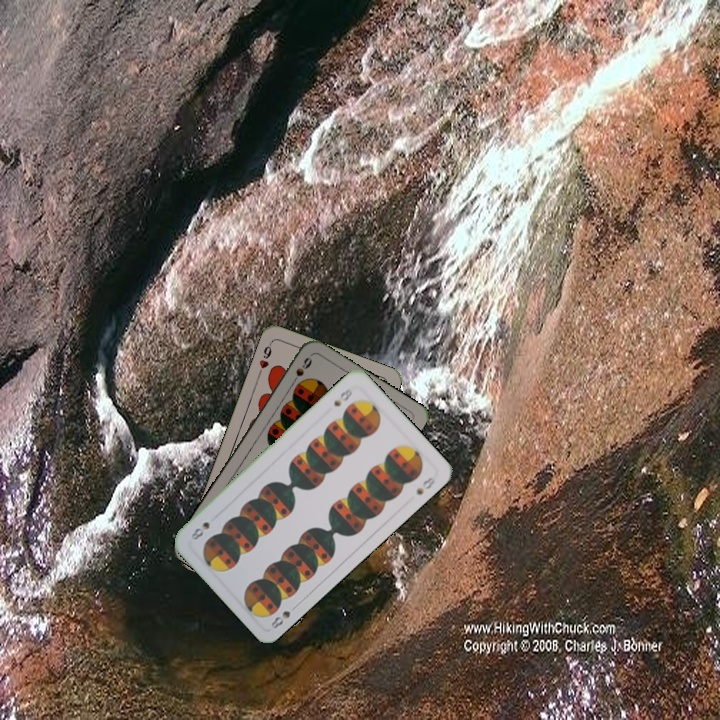H9: (254, 338, 275, 378)
S8: (267, 600, 301, 631), (329, 384, 355, 409)
S9: (287, 353, 315, 389)
